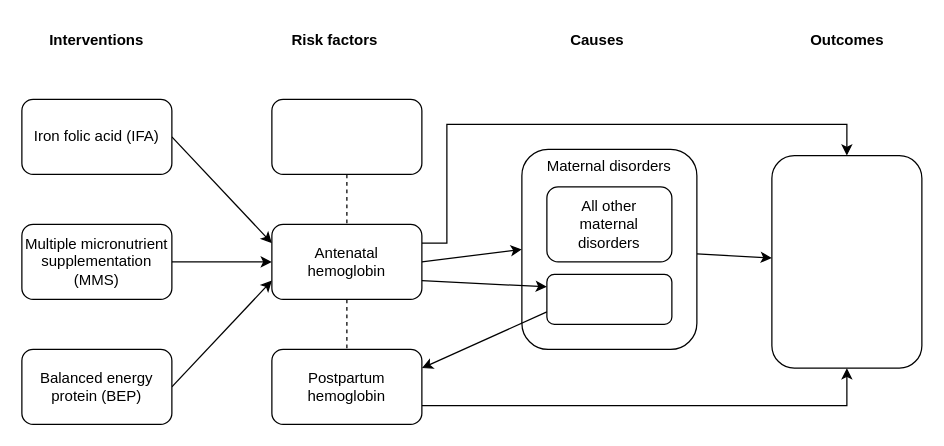
The diagram is 944 pixels wide and 446 high, and some of its shapes have lost their labels. The centre of each missing label's shape, as x and y in pixels:
"Maternal hemorrhage" belongs at [609,298].
"Morbidity and mortality" belongs at [846,261].
"Pre-pregnancy/first trimester body mass index (BMI)" belongs at [346,136].
